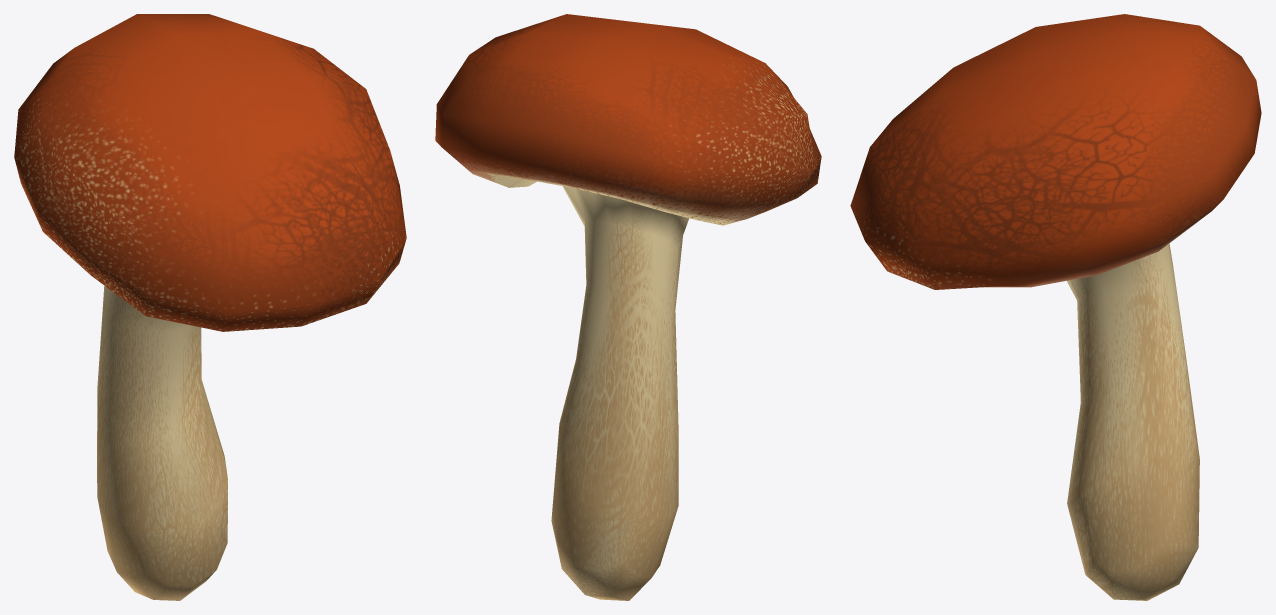
File: Pilz1.fbx
The picture shows the model from 3 angles, left to right: view 1: azimuth 30°, elevation 25°; view 2: azimuth 150°, elevation 25°; view 3: azimuth 270°, elevation 25°; orthographic projection. The views are drawn at different scales.
Visible parts, largest first — view 1: pilz6; view 2: pilz6; view 3: pilz6.
Boxes of the visible parts, left/top/right/bottom form: pilz6: left=14, top=14, right=406, bottom=600; pilz6: left=435, top=14, right=821, bottom=600; pilz6: left=850, top=14, right=1261, bottom=600.
Size of the model in its own units: 16.96 by 26.7 by 17.57.
